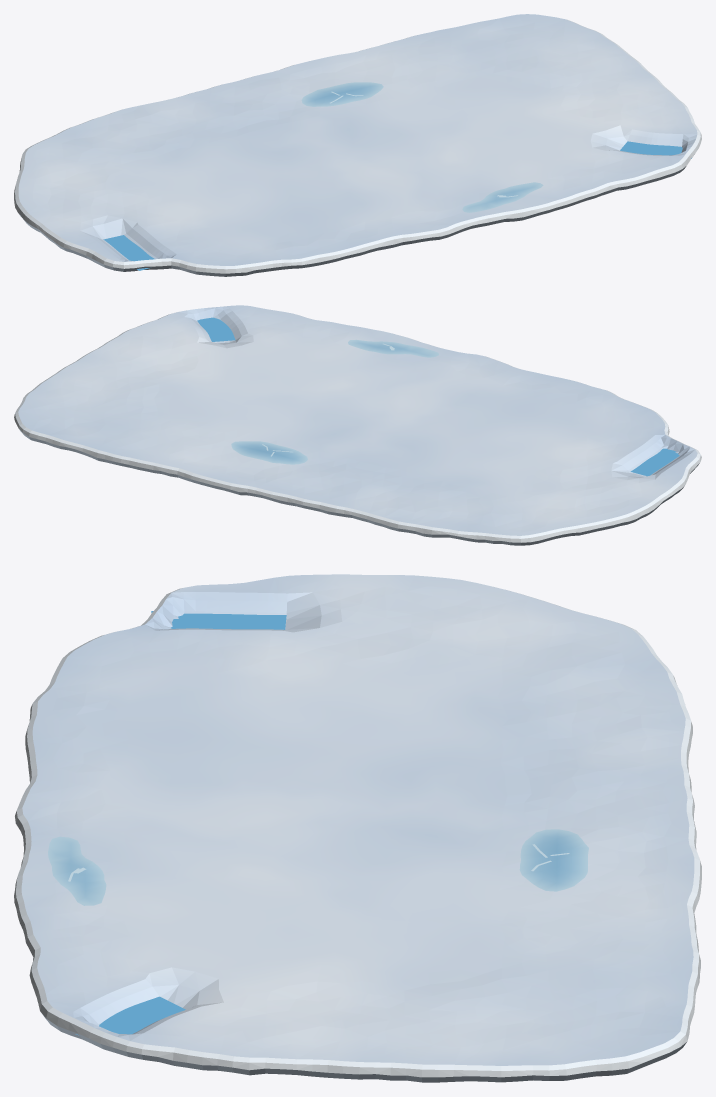
Rendered from Arena_Snow_Ground.fbx.
The picture shows the model from 3 angles, top to bottom: view 1: azimuth 30°, elevation 25°; view 2: azimuth 150°, elevation 25°; view 3: azimuth 270°, elevation 25°; orthographic projection. The views are drawn at different scales.
Parts seen in each view (by area): view 1: Arena_Snow_Ground.001; view 2: Arena_Snow_Ground.001; view 3: Arena_Snow_Ground.001.
Part boxes in pixels (x1,y1,x2,y2): Arena_Snow_Ground.001: (14, 14, 701, 276); Arena_Snow_Ground.001: (14, 305, 701, 545); Arena_Snow_Ground.001: (14, 574, 701, 1082).
Size of the model in its own units: 31.39 by 0.5904 by 18.33.
